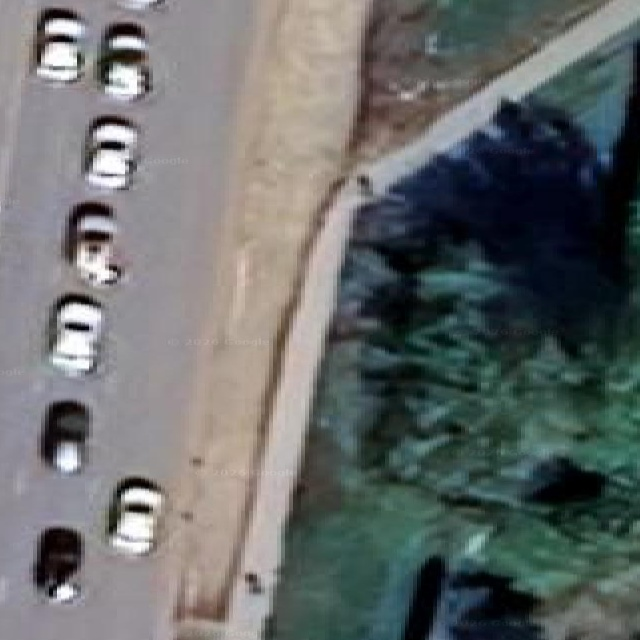car: (108, 480, 163, 555), (49, 299, 102, 375), (69, 210, 121, 286), (98, 24, 150, 100), (84, 118, 137, 189), (33, 528, 81, 603), (35, 10, 84, 83), (41, 401, 90, 474), (121, 0, 163, 9)
